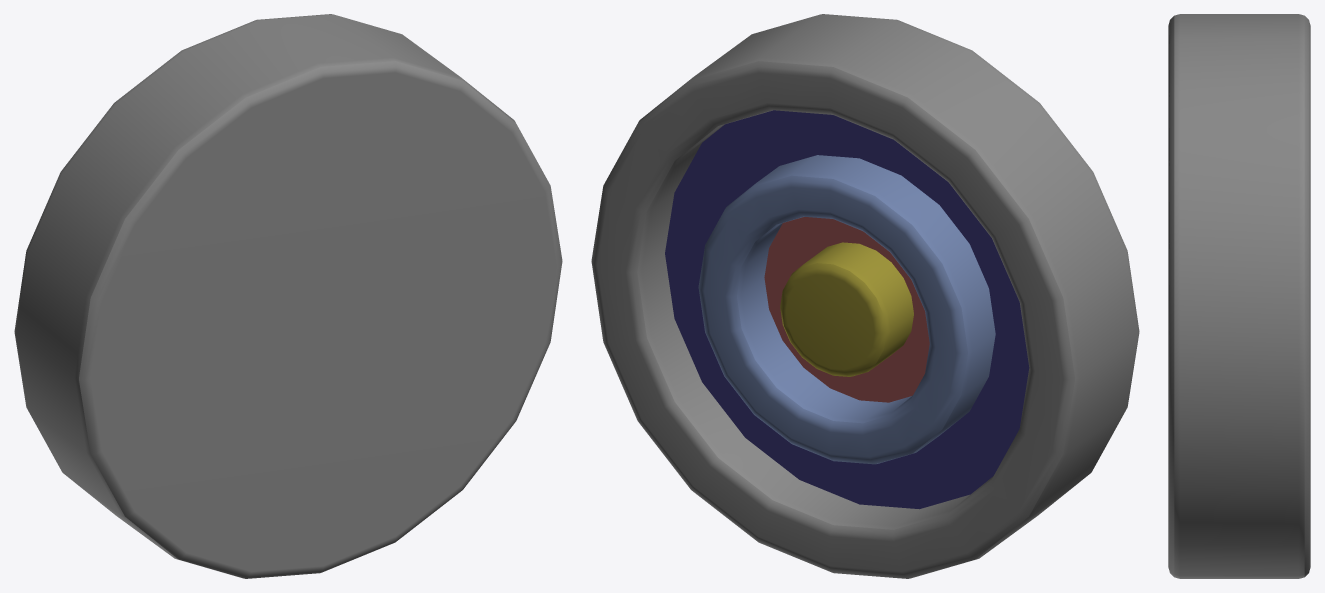
The model's file is TargetV1.fbx.
3 views of the same model, side by side, from view 1: azimuth 30°, elevation 25°; view 2: azimuth 150°, elevation 25°; view 3: azimuth 270°, elevation 25° (orthographic).
Parts seen in each view (by area): view 1: Target; view 2: Target; view 3: Target.
Boxes of the visible parts, left/top/right/bottom form: Target: left=14, top=14, right=562, bottom=578; Target: left=591, top=14, right=1139, bottom=578; Target: left=1168, top=14, right=1310, bottom=578.
Bounding box in the file's own units: 0.02 × 0.02 × 0.005.
